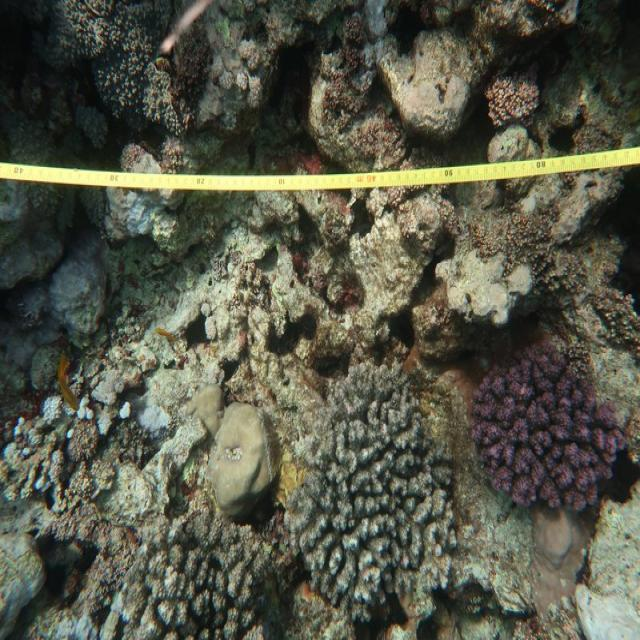Dead Coral: (289, 361, 449, 616), (129, 496, 263, 640)
Healthy Coral: (465, 338, 629, 521)
